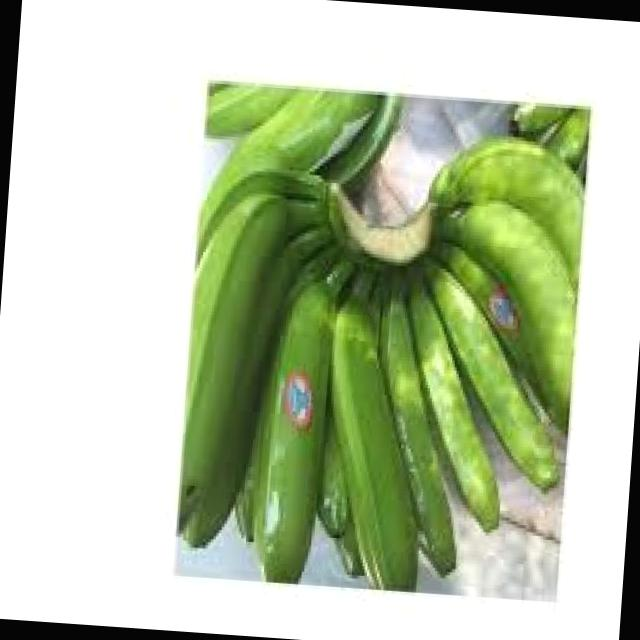Banana: (172, 76, 594, 602)
